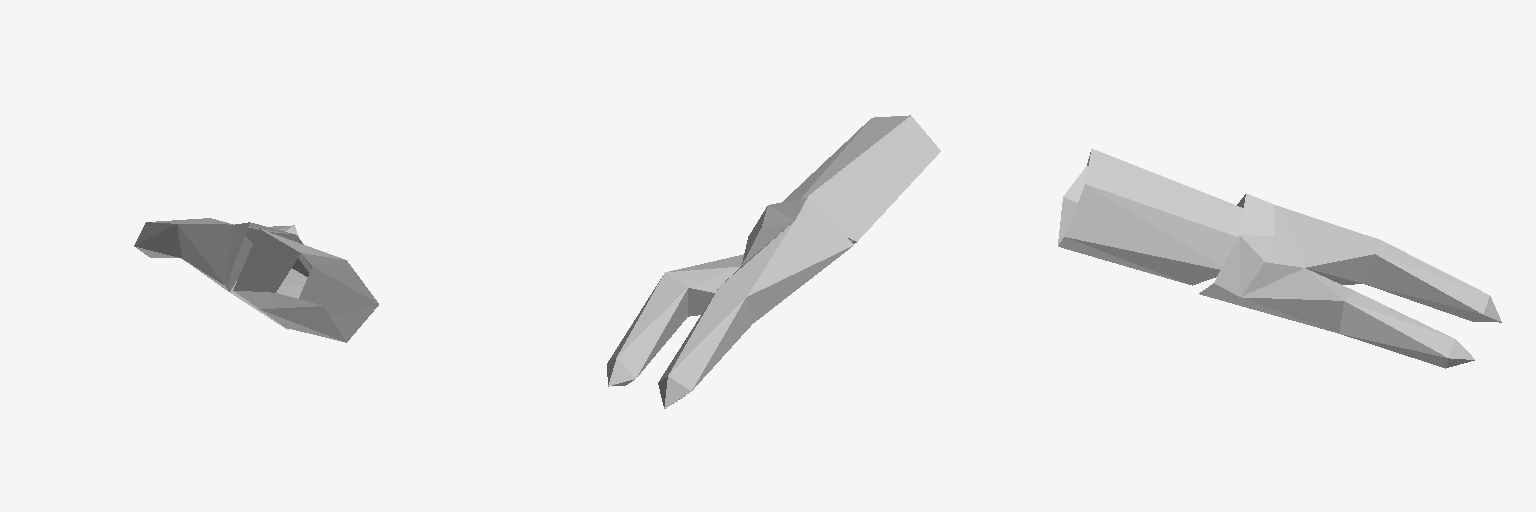
File: joe_bottom.obj
3 views of the same model, side by side, from view 1: azimuth 30°, elevation 25°; view 2: azimuth 150°, elevation 25°; view 3: azimuth 270°, elevation 25° (orthographic).
Bounding box in the file's own units: 0.8888 × 0.9259 × 2.23.